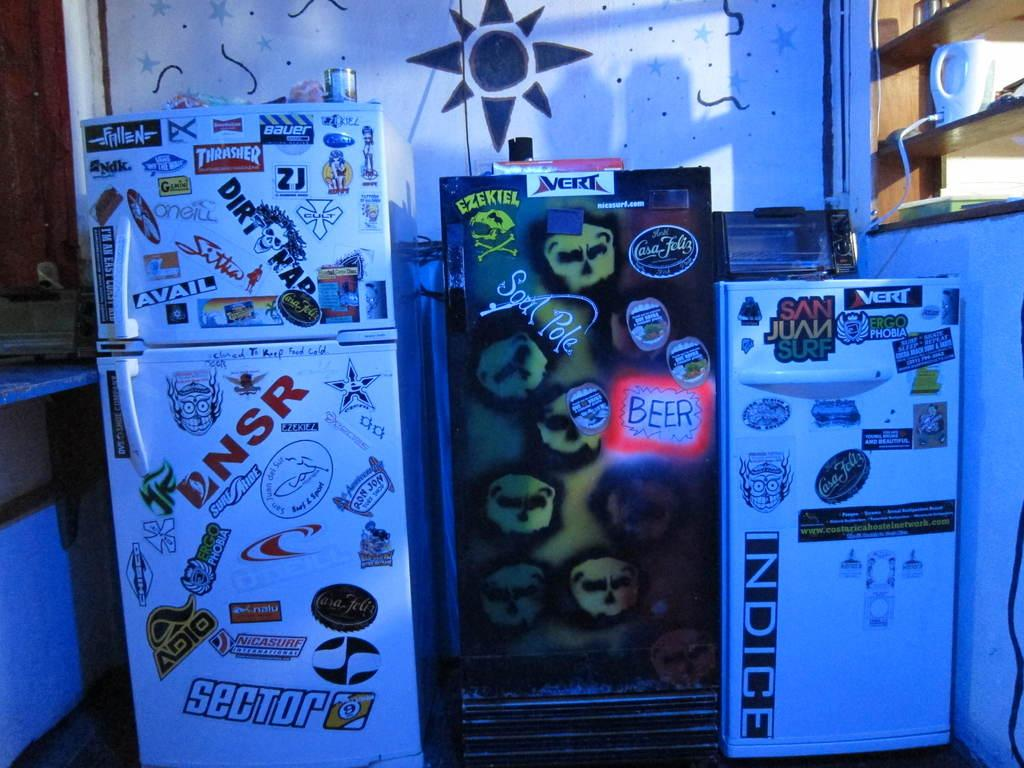handle: (110, 348, 160, 481), (100, 212, 141, 344), (741, 364, 889, 392), (446, 226, 476, 335)
